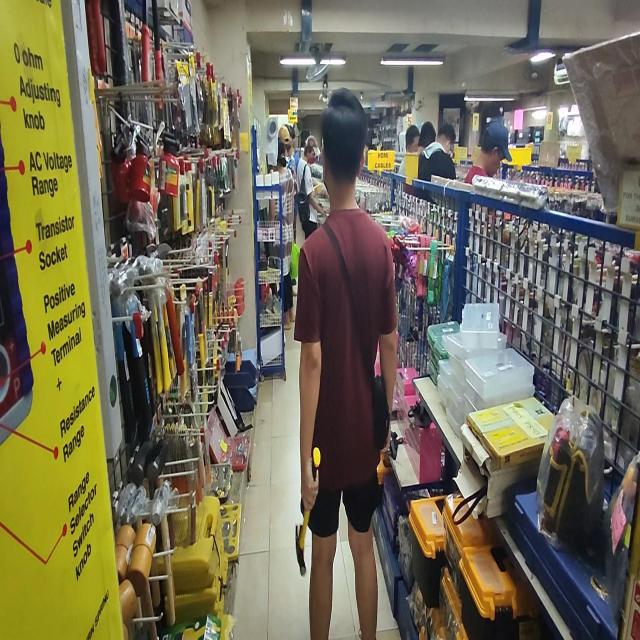hammer: (296, 447, 321, 578)
